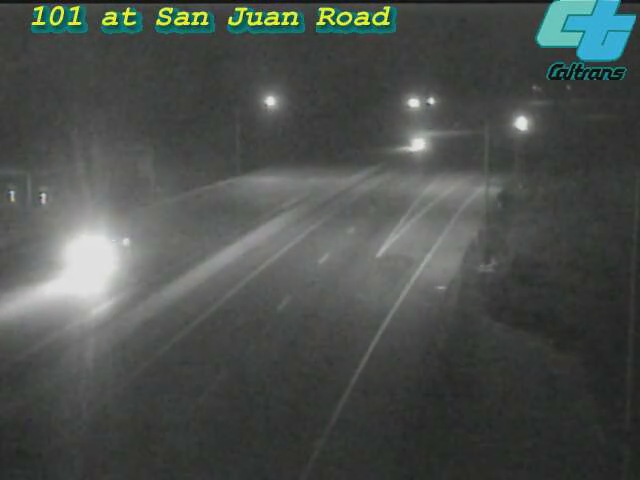vehicle: (42, 218, 122, 298), (394, 117, 444, 167), (496, 98, 546, 148)
